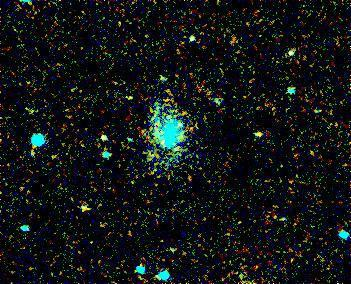star: (112, 82, 142, 112)
